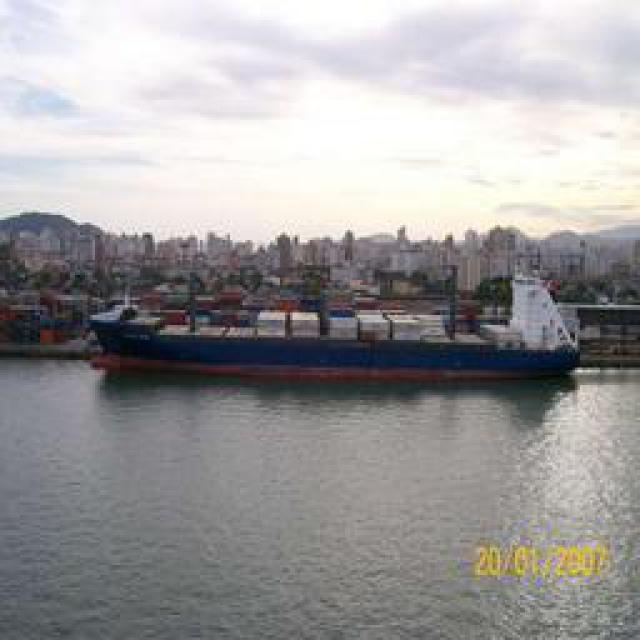Ship: (92, 284, 580, 384)
